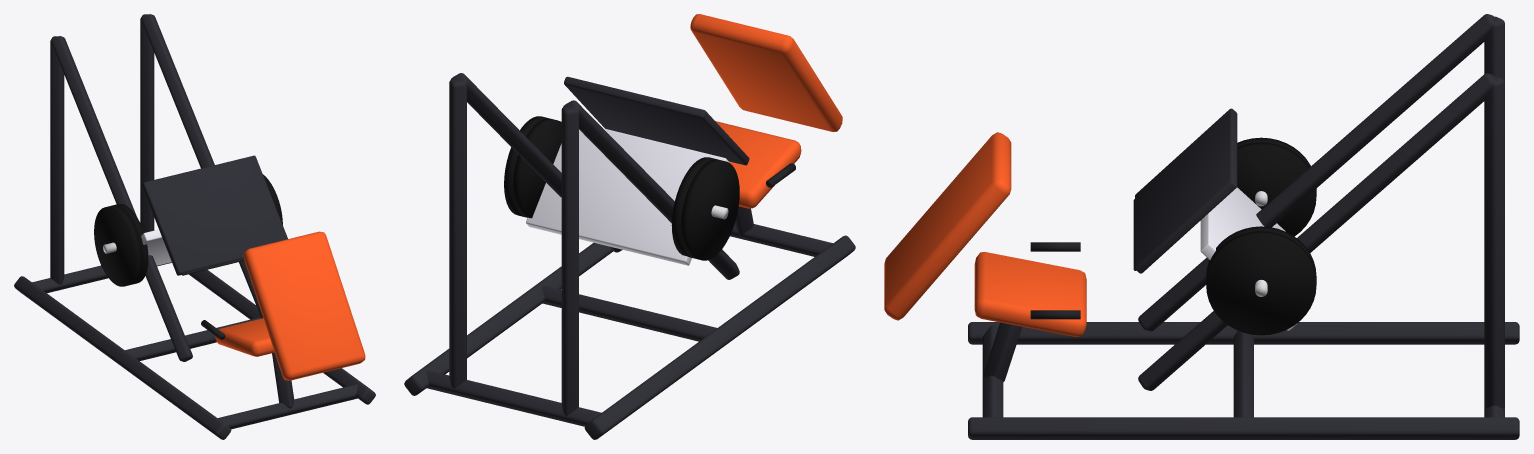
Rendered from prensa-45.glb.
3 views of the same model, side by side, from view 1: azimuth 30°, elevation 25°; view 2: azimuth 150°, elevation 25°; view 3: azimuth 270°, elevation 25° (orthographic). The views are drawn at different scales.
Parts seen in each view (by area): view 1: carro, Cube.001, Cylinder.005, Cylinder, Cylinder.006, Cylinder.007, Cylinder.008, Cylinder.002, Cylinder.001, Cube, Cylinder.003, Cylinder.004 (+1 smaller); view 2: carro, Cube.001, Cylinder, Cylinder.006, Cylinder.008, Cylinder.001, Cube, Cylinder.005, Cylinder.004, Cylinder.003, Cylinder.007, Cylinder.002; view 3: carro, Cylinder.001, Cube.001, Cylinder, Cylinder.005, Cylinder.007, Cube, Cylinder.008, Cylinder.003, Cylinder.002, Cylinder.009, Cylinder.006.
Boxes of the visible parts, x1,y1,x2,y2 form: carro: (94, 155, 287, 286); Cube.001: (243, 231, 365, 380); Cylinder.005: (51, 36, 192, 361); Cylinder: (14, 276, 231, 439); Cylinder.006: (50, 36, 64, 284); Cylinder.007: (141, 14, 263, 318); Cylinder.008: (140, 14, 154, 232); Cylinder.002: (218, 384, 357, 429); Cylinder.001: (189, 269, 375, 404); Cube: (215, 318, 274, 356); Cylinder.003: (125, 317, 261, 360); Cylinder.004: (32, 262, 171, 293); carro: (504, 76, 749, 265); Cube.001: (690, 14, 842, 131); Cylinder: (584, 235, 855, 439); Cylinder.006: (561, 106, 578, 415); Cylinder.008: (449, 79, 466, 388); Cylinder.001: (404, 243, 613, 395); Cube: (715, 121, 801, 208); Cylinder.005: (563, 100, 739, 279); Cylinder.004: (426, 370, 601, 426); Cylinder.003: (542, 285, 717, 341); Cylinder.007: (451, 73, 622, 252); Cylinder.002: (730, 223, 832, 256); carro: (1133, 108, 1316, 335); Cylinder.001: (968, 417, 1519, 439); Cube.001: (884, 132, 1011, 320); Cylinder: (968, 322, 1519, 344); Cylinder.005: (1138, 14, 1494, 331); Cylinder.007: (1138, 73, 1494, 390); Cube: (974, 252, 1086, 336); Cylinder.008: (1484, 76, 1504, 408); Cylinder.003: (1233, 330, 1253, 417); Cylinder.002: (982, 325, 1003, 417); Cylinder.009: (983, 322, 1021, 381); Cylinder.006: (1484, 16, 1504, 81).
Size of the model in its own units: 1.03 by 1.53 by 2.53.
